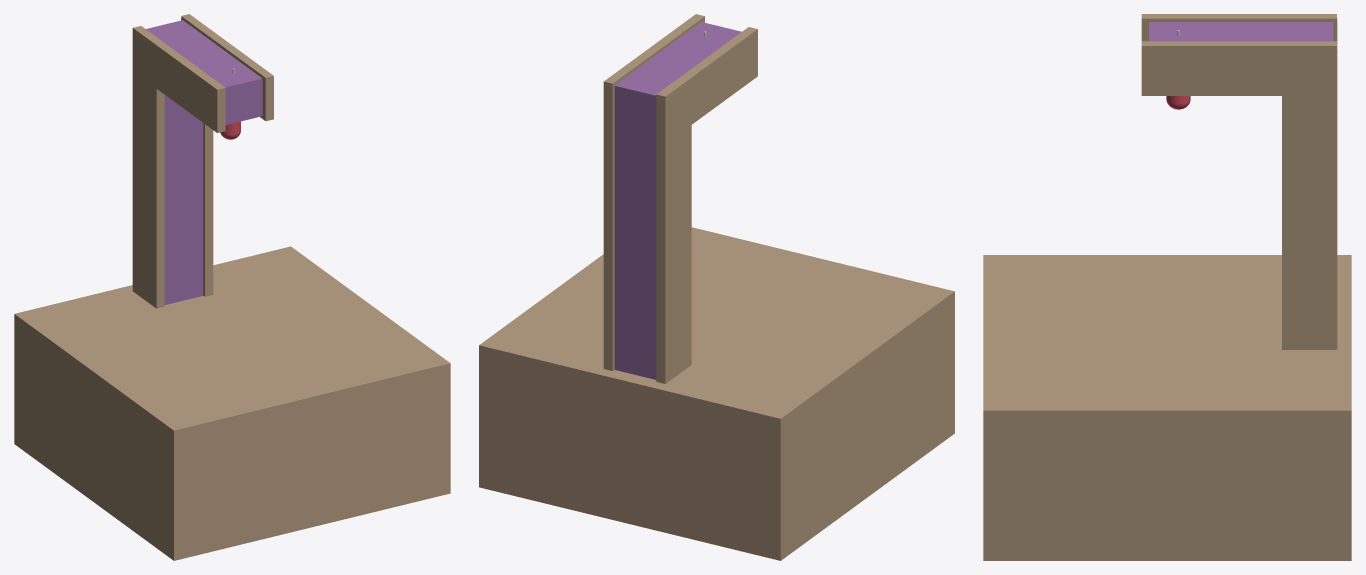
File: ahhhhhhhhhhhhhhh.glb
The picture shows the model from 3 angles, left to right: view 1: azimuth 30°, elevation 25°; view 2: azimuth 150°, elevation 25°; view 3: azimuth 270°, elevation 25°; orthographic projection. The views are drawn at different scales.
Visible parts, largest first — view 1: Mesh_Mesh_head_geo.001_lambert2SG.001; view 2: Mesh_Mesh_head_geo.001_lambert2SG.001; view 3: Mesh_Mesh_head_geo.001_lambert2SG.001.
Part boxes in pixels (left/top/right/bottom): Mesh_Mesh_head_geo.001_lambert2SG.001: left=14, top=14, right=450, bottom=560; Mesh_Mesh_head_geo.001_lambert2SG.001: left=479, top=14, right=954, bottom=560; Mesh_Mesh_head_geo.001_lambert2SG.001: left=983, top=14, right=1351, bottom=560.
Size of the model in its own units: 150 by 205 by 150.
